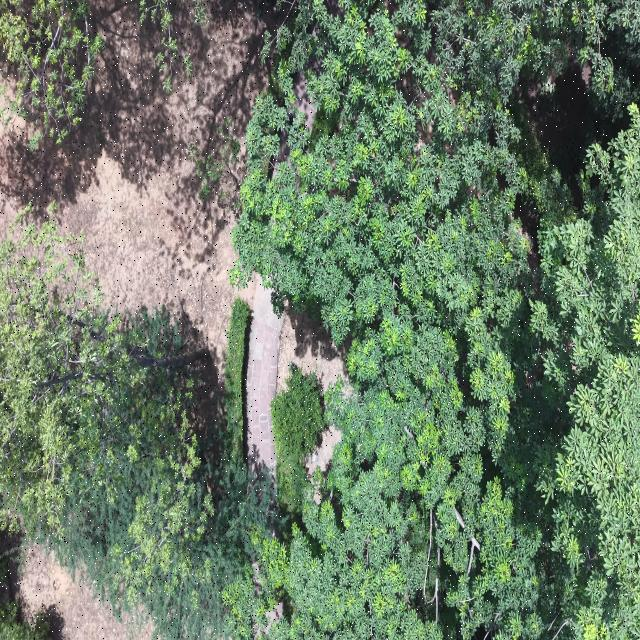DRY_AREA: (0, 1, 268, 393), (0, 1, 267, 393), (0, 1, 267, 366), (54, 157, 254, 373), (247, 277, 349, 470), (247, 278, 348, 471), (247, 283, 347, 467), (16, 545, 152, 639), (518, 51, 599, 191), (245, 277, 283, 480), (276, 305, 349, 393), (278, 306, 350, 391), (277, 307, 349, 391), (248, 324, 278, 468)
PATHWAYS: (247, 276, 283, 468)
VEGETATION_TREE: (0, 0, 639, 639), (224, 1, 639, 639), (232, 0, 639, 340), (0, 214, 270, 639), (47, 299, 272, 639), (0, 221, 208, 533), (523, 103, 639, 636), (0, 222, 130, 530), (0, 0, 103, 148), (272, 366, 325, 512), (140, 0, 192, 92), (0, 552, 50, 639), (188, 117, 240, 199), (225, 298, 250, 456), (0, 600, 50, 639)
